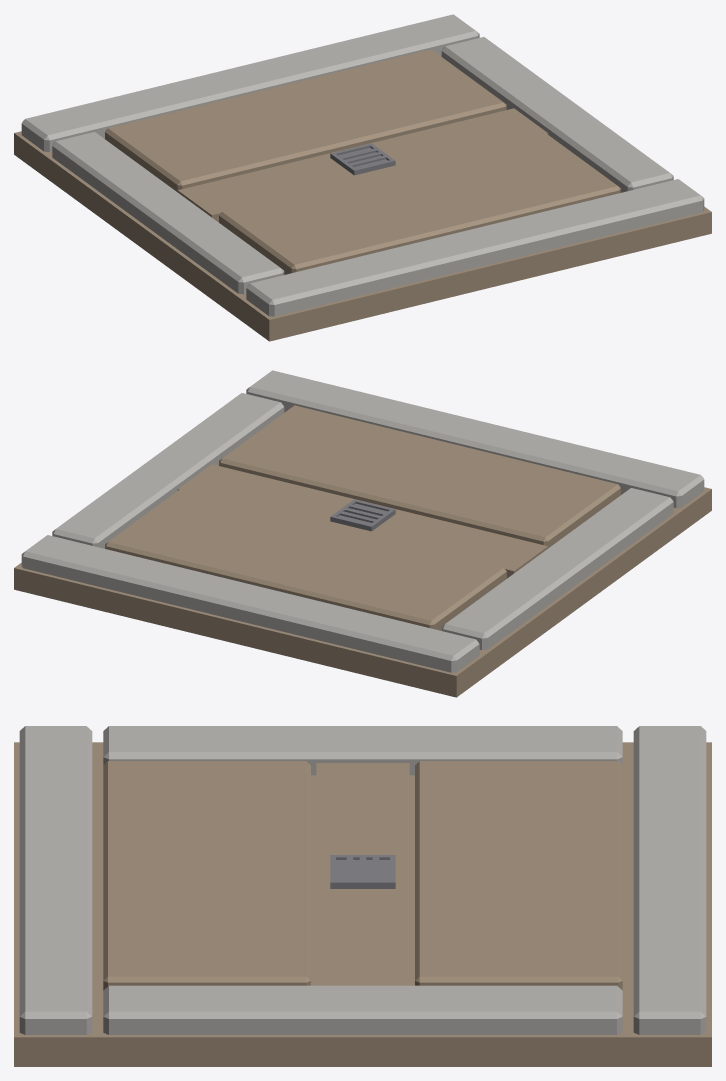
File: tile-stable-floor.fbx
The picture shows the model from 3 angles, top to bottom: view 1: azimuth 30°, elevation 25°; view 2: azimuth 150°, elevation 25°; view 3: azimuth 270°, elevation 25°; orthographic projection. The views are drawn at different scales.
Parts seen in each view (by area): view 1: tile-stable-floor; view 2: tile-stable-floor; view 3: tile-stable-floor.
Boxes of the visible parts, x1=… form: tile-stable-floor: x1=14, y1=14, x2=711, y2=341; tile-stable-floor: x1=14, y1=370, x2=711, y2=697; tile-stable-floor: x1=14, y1=726, x2=711, y2=1066.
Bounding box in the file's own units: 1.5 × 0.12 × 1.5.
